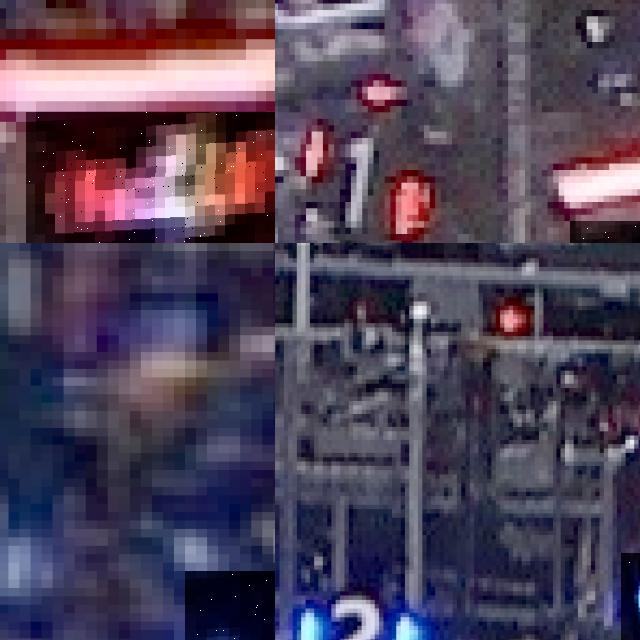B1: (185, 571, 275, 640)
B2: (288, 582, 426, 640), (621, 552, 640, 640)
R1: (300, 119, 424, 234)
R4: (26, 111, 275, 243)
